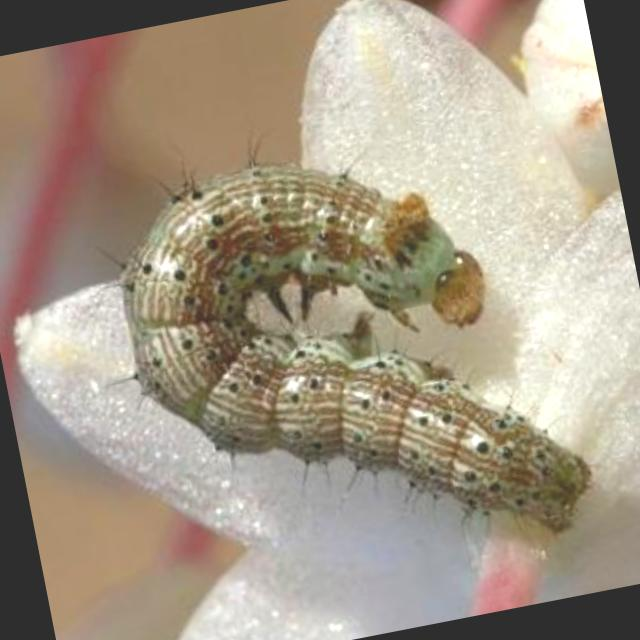Cotton bollworm: (73, 87, 618, 625)
